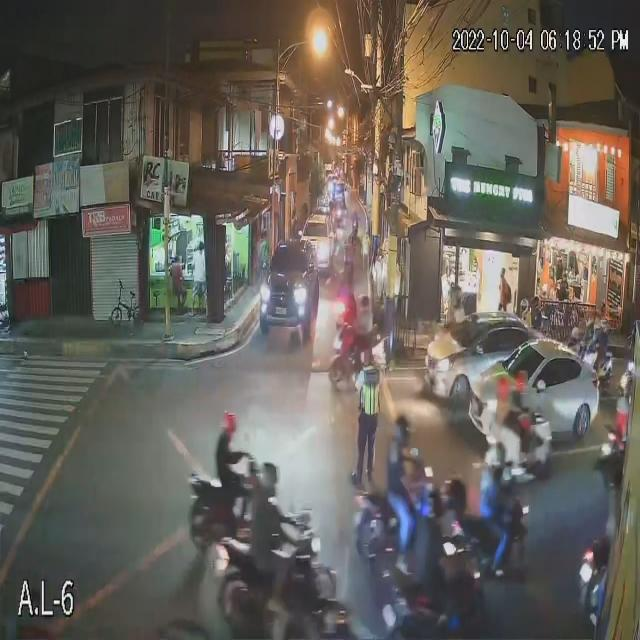helmet: (393, 422, 414, 440), (223, 412, 237, 430), (495, 379, 507, 393), (521, 301, 531, 312), (516, 377, 526, 388)
motorcycle: (213, 550, 348, 634), (351, 488, 452, 544), (453, 513, 532, 576), (382, 598, 487, 640), (190, 479, 267, 536), (486, 428, 564, 479), (322, 331, 397, 378), (583, 551, 624, 618), (600, 440, 633, 497), (577, 353, 622, 382)
rider: (257, 502, 285, 608), (389, 449, 413, 535), (483, 476, 506, 545), (217, 438, 239, 506), (500, 401, 510, 445), (361, 314, 370, 351), (515, 393, 523, 425)
